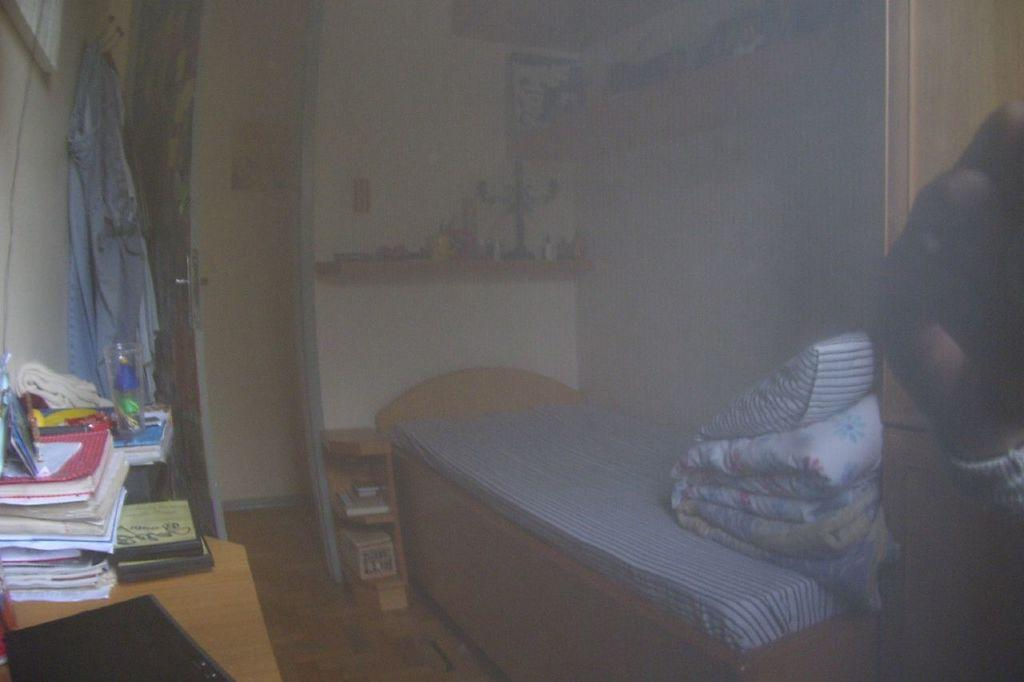Book: (0, 397, 224, 602), (328, 473, 393, 520)
